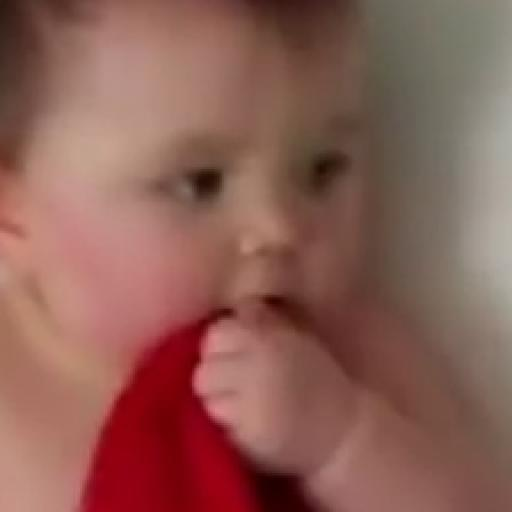Autism: (9, 1, 420, 414)
